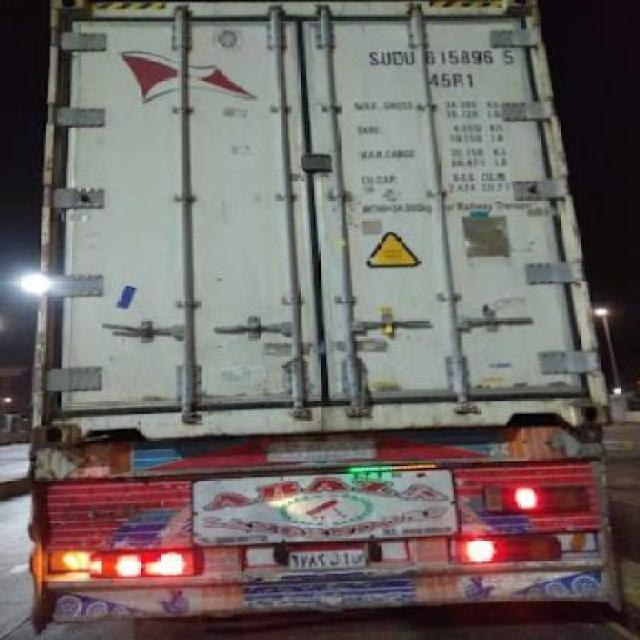ISO: (434, 70, 474, 90)
container_number: (357, 45, 518, 68)
